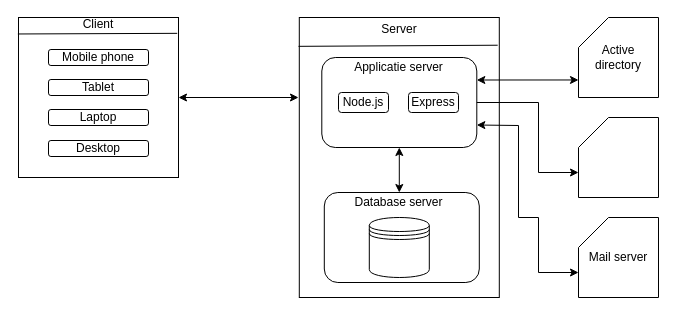
Image size: 676x315. Some labels were removed from this diagram. Each missing label, with the centre of its shape:
"MongoDB" belongs at (398,247).
"Print server" belongs at (618,157).
